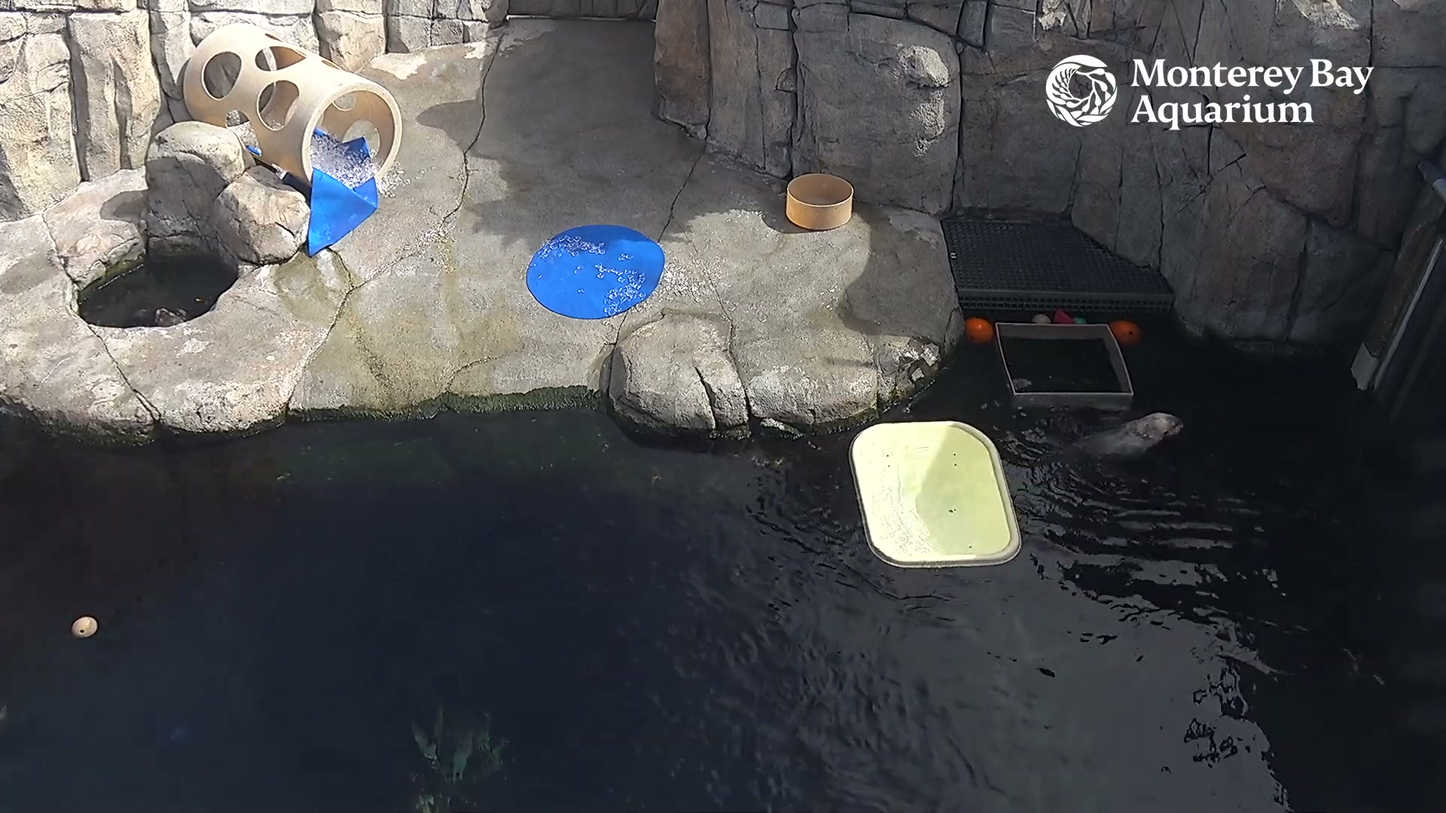Southern Sea Otter: (1035, 409, 1189, 497), (141, 295, 210, 329)
